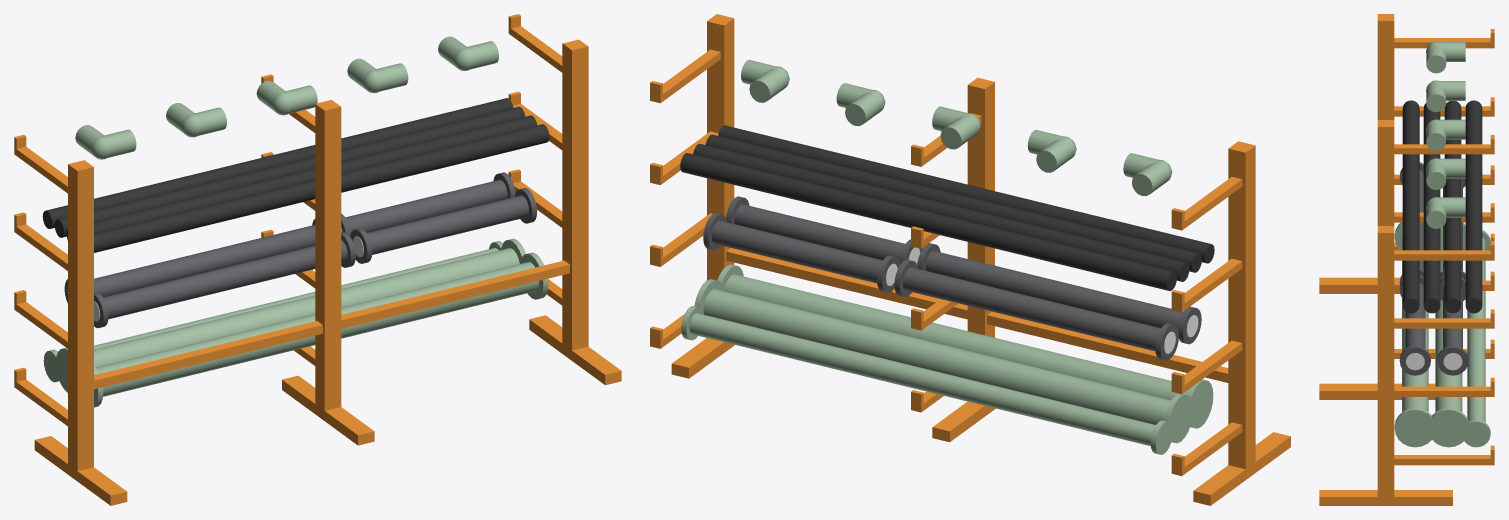
Rendered from SM_PipeSpoolRack.fbx.
3 views of the same model, side by side, from view 1: azimuth 30°, elevation 25°; view 2: azimuth 150°, elevation 25°; view 3: azimuth 270°, elevation 25° (orthographic). The views are drawn at different scales.
Parts seen in each view (by area): view 1: PSR_Spools, PSR_Rack; view 2: PSR_Spools, PSR_Rack; view 3: PSR_Spools, PSR_Rack.
Part boxes in pixels (bbox=[...]): PSR_Spools: bbox=[42, 36, 549, 407]; PSR_Rack: bbox=[14, 14, 621, 505]; PSR_Spools: bbox=[680, 59, 1214, 454]; PSR_Rack: bbox=[650, 14, 1290, 505]; PSR_Spools: bbox=[1394, 41, 1490, 447]; PSR_Rack: bbox=[1319, 14, 1494, 505].
Bounding box in the file's own units: 620 × 360 × 210.
